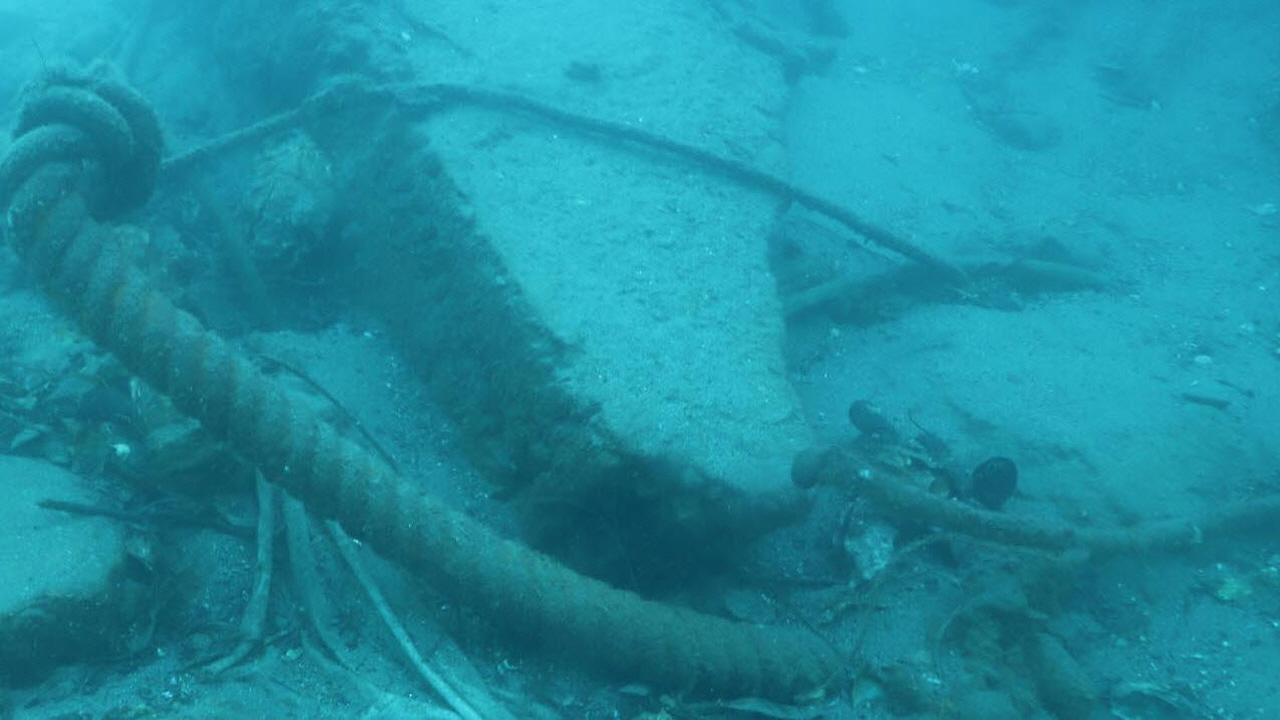rope: (0, 62, 850, 719), (153, 75, 968, 305), (833, 442, 1280, 557)
